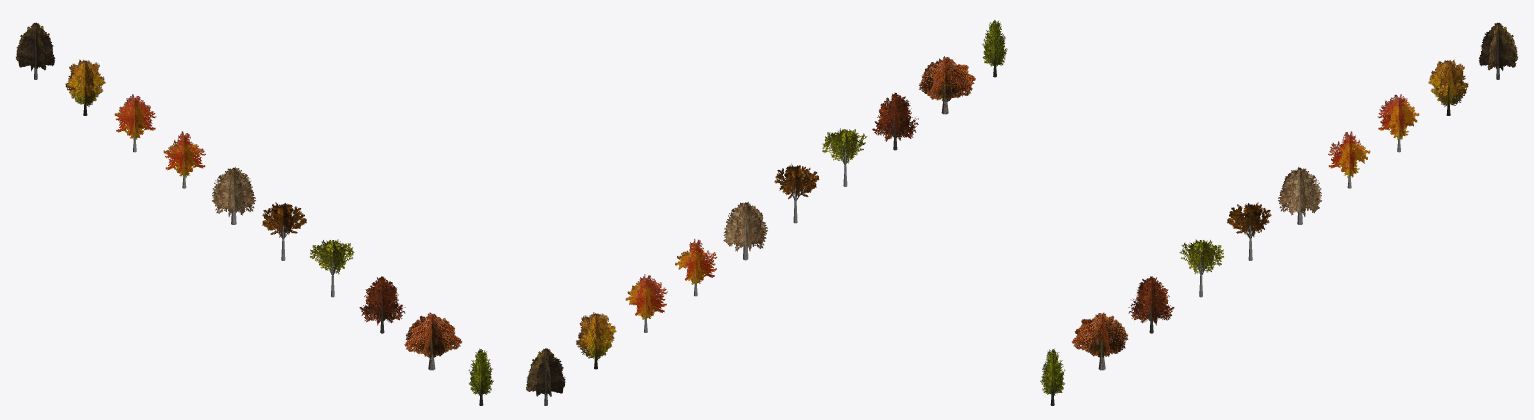
The model's file is autumn.glb.
3 renders of one model, left to right at view 1: azimuth 30°, elevation 25°; view 2: azimuth 150°, elevation 25°; view 3: azimuth 330°, elevation 25°, orthographic.
Parts seen in each view (by area): view 1: tree34_lod0, tree29_lod0, tree28_lod0, tree33_lod0, tree32_lod0, tree31_lod0, tree30_lod0, tree36_lod0, tree35_lod0, tree13_lod0; view 2: tree34_lod0, tree29_lod0, tree28_lod0, tree33_lod0, tree32_lod0, tree31_lod0, tree30_lod0, tree36_lod0, tree35_lod0, tree13_lod0; view 3: tree34_lod0, tree29_lod0, tree28_lod0, tree33_lod0, tree32_lod0, tree31_lod0, tree30_lod0, tree35_lod0, tree36_lod0, tree13_lod0.
Part boxes in pixels (<box>): tree34_lod0: <box>404,312,462,370</box>; tree29_lod0: <box>212,167,255,224</box>; tree28_lod0: <box>359,276,405,333</box>; tree33_lod0: <box>16,22,55,79</box>; tree32_lod0: <box>65,59,105,115</box>; tree31_lod0: <box>114,94,156,152</box>; tree30_lod0: <box>163,131,205,188</box>; tree36_lod0: <box>262,202,306,260</box>; tree35_lod0: <box>309,239,354,297</box>; tree13_lod0: <box>468,348,493,405</box>; tree34_lod0: <box>919,56,975,114</box>; tree29_lod0: <box>723,201,767,260</box>; tree28_lod0: <box>872,92,918,150</box>; tree33_lod0: <box>526,348,565,405</box>; tree32_lod0: <box>576,312,616,369</box>; tree31_lod0: <box>625,274,667,332</box>; tree30_lod0: <box>675,239,717,296</box>; tree36_lod0: <box>774,163,819,223</box>; tree35_lod0: <box>822,128,867,186</box>; tree13_lod0: <box>982,20,1007,77</box>; tree34_lod0: <box>1071,312,1128,370</box>; tree29_lod0: <box>1278,167,1321,224</box>; tree28_lod0: <box>1128,276,1174,333</box>; tree33_lod0: <box>1479,22,1517,79</box>; tree32_lod0: <box>1428,59,1468,115</box>; tree31_lod0: <box>1377,94,1419,152</box>; tree30_lod0: <box>1328,131,1370,188</box>; tree35_lod0: <box>1179,239,1224,297</box>; tree36_lod0: <box>1227,202,1271,260</box>; tree13_lod0: <box>1040,348,1065,405</box>.
Size of what is drawn, in the model's own units: 14.4 by 12.5 by 188.
Materials: 10 (10 with a texture image).
